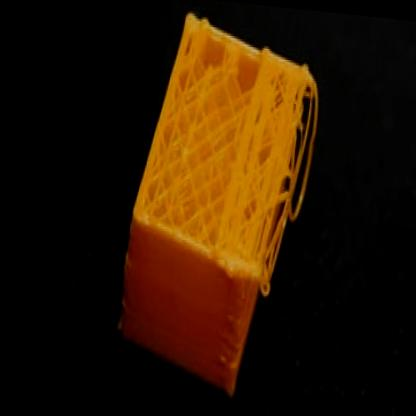fail: (248, 63, 330, 305)
